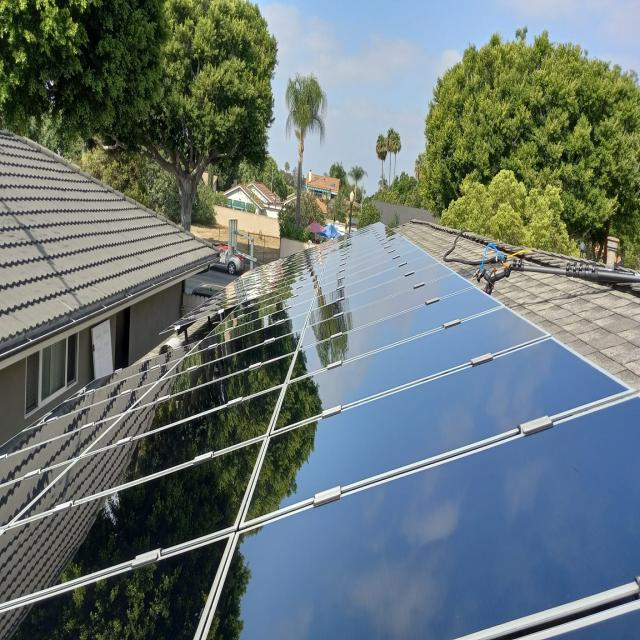clean-solar-panel: (1, 227, 640, 640)
